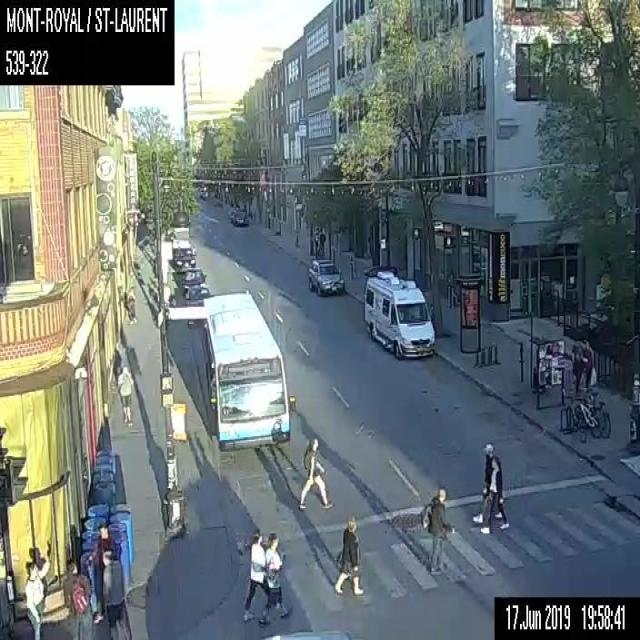bus: (198, 287, 296, 453)
pedestrian: (98, 549, 134, 639), (60, 554, 96, 638), (420, 485, 450, 576), (332, 513, 363, 596), (241, 531, 266, 624), (263, 530, 289, 618), (299, 436, 328, 509), (472, 438, 495, 524), (24, 558, 48, 638), (484, 457, 508, 533), (111, 347, 132, 428), (92, 511, 118, 549), (568, 335, 583, 392), (125, 284, 136, 324), (584, 336, 593, 384), (316, 227, 326, 257)
vehicle: (362, 268, 434, 360), (304, 256, 344, 299), (181, 264, 209, 297), (174, 248, 196, 272), (230, 208, 248, 227)
